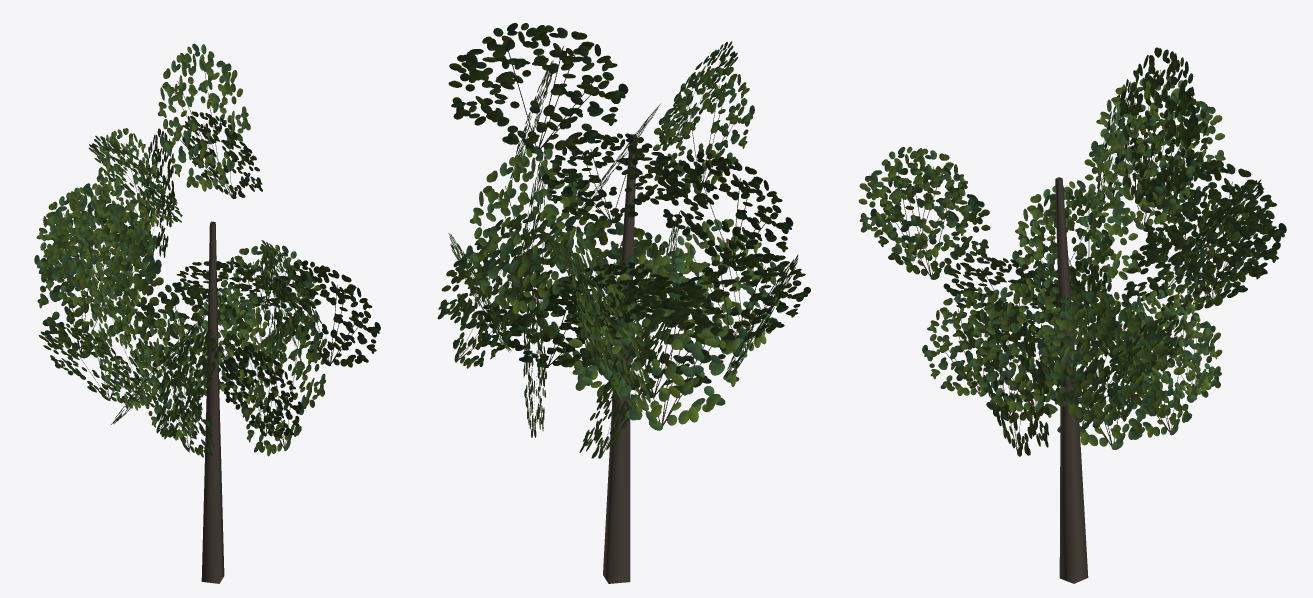
Rendered from tpl_dike_elms_dike_elm_lo.glb.
3 views of the same model, side by side, from view 1: azimuth 30°, elevation 25°; view 2: azimuth 150°, elevation 25°; view 3: azimuth 270°, elevation 25° (orthographic). The views are drawn at different scales.
Visible parts, largest first — view 1: tpl_dike_elms_dike_elm_lo; view 2: tpl_dike_elms_dike_elm_lo; view 3: tpl_dike_elms_dike_elm_lo.
Boxes of the visible parts, left/top/right/bottom form: tpl_dike_elms_dike_elm_lo: left=34, top=43, right=380, bottom=583; tpl_dike_elms_dike_elm_lo: left=437, top=23, right=810, bottom=583; tpl_dike_elms_dike_elm_lo: left=858, top=47, right=1286, bottom=583.
Bounding box in the file's own units: 13.82 × 21.47 × 16.08.
Materials: 2 (1 with a texture image).
